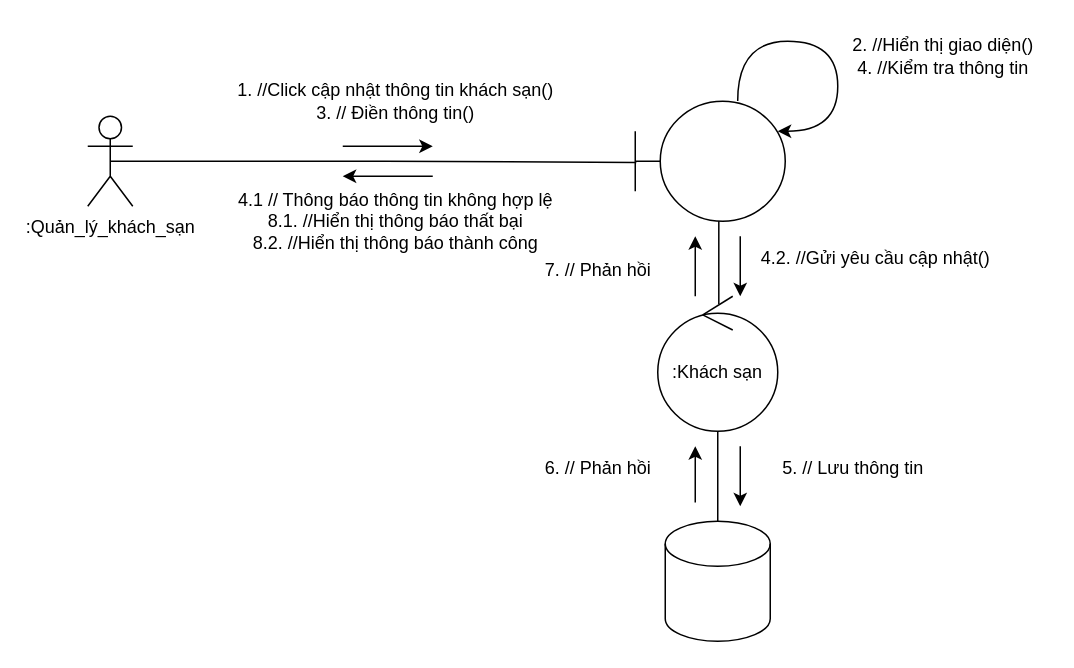
This 1074x668 diagram has some shape labels left out. The shapes that lost their labels are listed below. From the top down, each one's box as (x1, y1, x2, y2) in pixels, then its label:
(634, 100, 785, 221): : Giao diện cập nhật
(664, 520, 770, 641): Cơ sở dữ liệu
